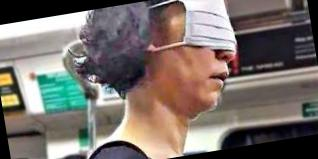mask_weared_incorrect: (167, 1, 250, 114)
